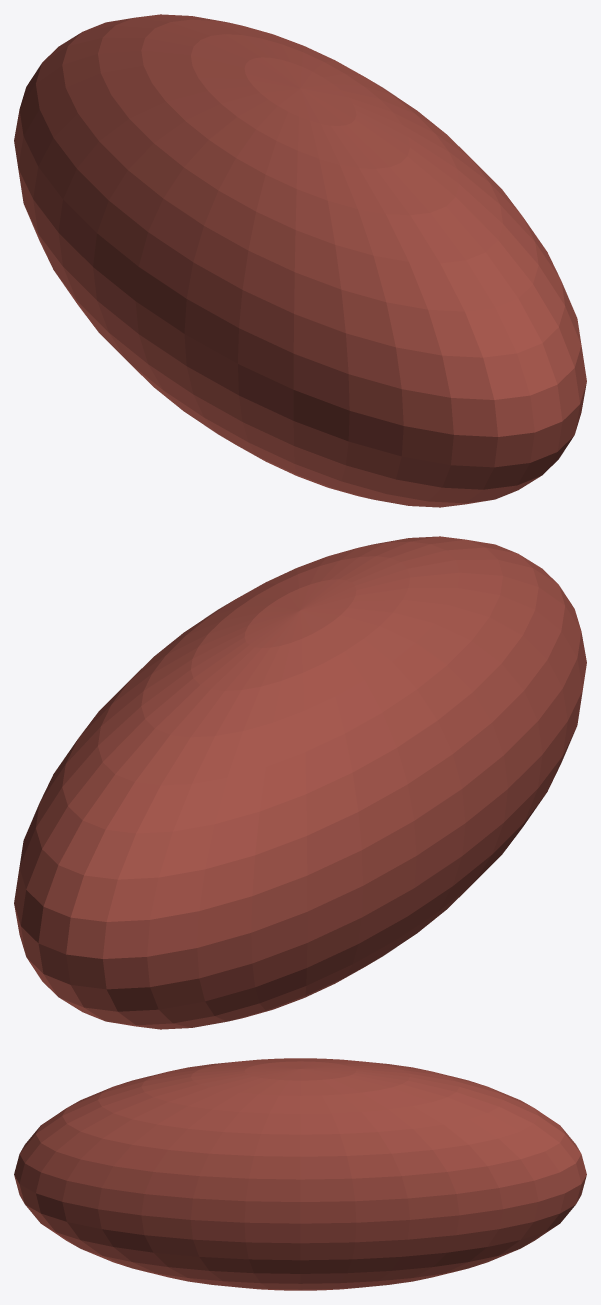
The model's file is SU_GromadaAirship_LOD0.glb.
The picture shows the model from 3 angles, top to bottom: view 1: azimuth 30°, elevation 25°; view 2: azimuth 150°, elevation 25°; view 3: azimuth 270°, elevation 25°; orthographic projection. The views are drawn at different scales.
Parts seen in each view (by area): view 1: Sphere; view 2: Sphere; view 3: Sphere.
Part boxes in pixels (<box>): Sphere: <box>14,14,586,507</box>; Sphere: <box>14,536,586,1029</box>; Sphere: <box>14,1058,586,1290</box>.
Bounding box in the file's own units: 5.2 × 5.2 × 12.8.
